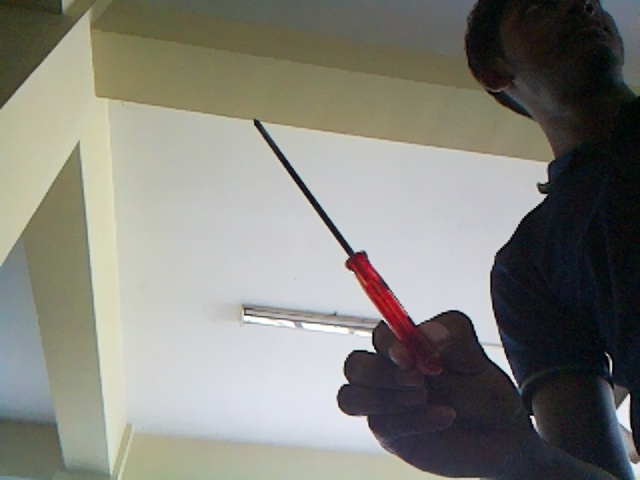redskrew: (251, 116, 421, 348)
